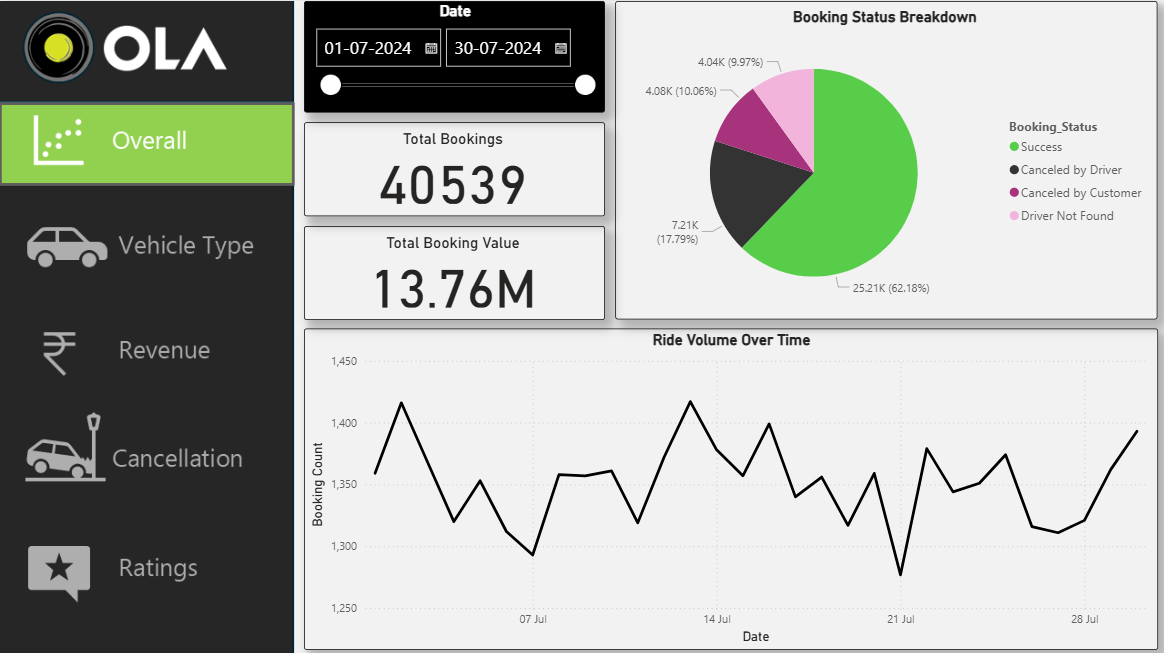

What the dashboard file says about the page in this screenshot:
{"tool":"powerbi","page":{"name":"Overall","canvas":[1280,720],"ordinal":0},"visuals":[{"type":"actionButton","box":[0,111,324.5,91.7],"z":0},{"type":"actionButton","box":[1.2,219.6,324.5,91.7],"z":1000},{"type":"actionButton","box":[1.2,335.4,324.5,91.7],"z":2000},{"type":"actionButton","box":[1.2,445.2,324.5,91.7],"z":3000},{"type":"actionButton","box":[0,577.9,324.5,91.7],"z":4000},{"type":"lineChart","title":"Ride Volume Over Time","fields":{"Y":["CountNonNull(bookings.Booking_ID)"],"Category":["bookings.Date"]},"box":[334.8,359.5,937.2,352.7],"z":5000},{"type":"pieChart","title":"Booking Status Breakdown","fields":{"Y":["CountNonNull(bookings.Booking_Value)"],"Category":["bookings.Booking_Status"]},"box":[676.5,0,595.5,349.9],"z":6000},{"type":"slicer","title":"Date","fields":{"Values":["bookings.Date"]},"box":[334.8,0,330.7,122.1],"z":7000},{"type":"card","title":"Total Bookings","fields":{"Values":["CountNonNull(bookings.Booking_ID)"]},"box":[334.8,133.1,330.7,102.9],"z":8000},{"type":"card","title":"Total Booking Value","fields":{"Values":["Sum(bookings.Booking_Value)"]},"box":[334.8,247,330.7,102.9],"z":9000}]}

Visuals, with their boxes in screenshot pixels (x1, y1, x2, y2), scaled from the page's 1280x720 canvas onto the 1164x653 screenshot:
actionButton: l=0, t=101, r=295, b=184
actionButton: l=1, t=199, r=296, b=282
actionButton: l=1, t=304, r=296, b=387
actionButton: l=1, t=404, r=296, b=487
actionButton: l=0, t=524, r=295, b=607
"Ride Volume Over Time" lineChart: l=304, t=326, r=1157, b=646
"Booking Status Breakdown" pieChart: l=615, t=0, r=1157, b=317
"Date" slicer: l=304, t=0, r=605, b=111
"Total Bookings" card: l=304, t=121, r=605, b=214
"Total Booking Value" card: l=304, t=224, r=605, b=317
